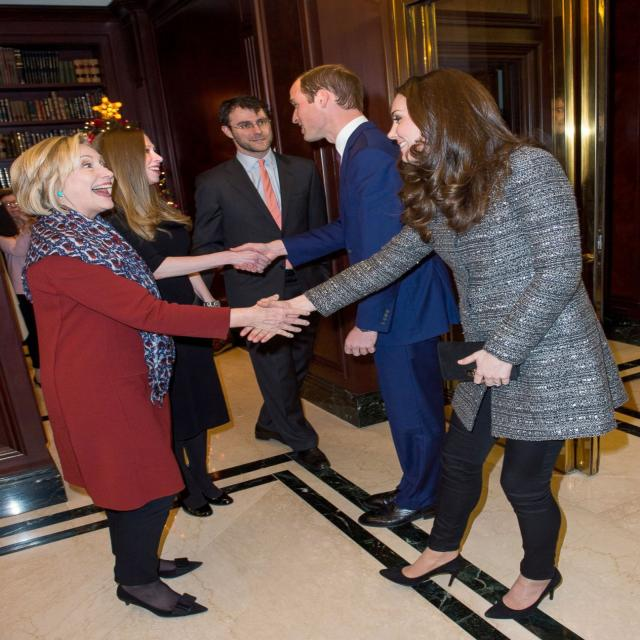body: (236, 63, 632, 623), (5, 128, 314, 620), (224, 62, 467, 530), (89, 122, 275, 520), (188, 96, 335, 472), (0, 187, 44, 391)
